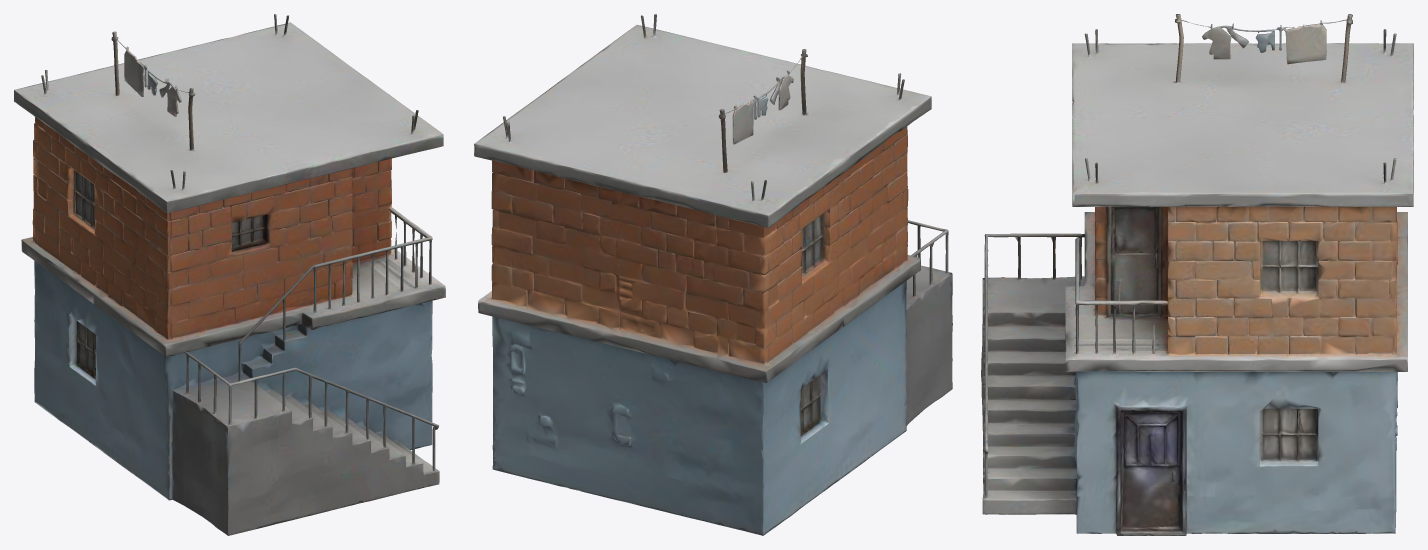
File: favela_casa1.glb
The picture shows the model from 3 angles, left to right: view 1: azimuth 30°, elevation 25°; view 2: azimuth 150°, elevation 25°; view 3: azimuth 270°, elevation 25°; orthographic projection. The views are drawn at different scales.
Visible parts, largest first — view 1: tripo_node_f0d05755-162e-4ab7-9c2d-4ab9e48786cd; view 2: tripo_node_f0d05755-162e-4ab7-9c2d-4ab9e48786cd; view 3: tripo_node_f0d05755-162e-4ab7-9c2d-4ab9e48786cd.
Part boxes in pixels (x1,y1,x2,y2): tripo_node_f0d05755-162e-4ab7-9c2d-4ab9e48786cd: [14, 14, 445, 535]; tripo_node_f0d05755-162e-4ab7-9c2d-4ab9e48786cd: [474, 14, 952, 535]; tripo_node_f0d05755-162e-4ab7-9c2d-4ab9e48786cd: [981, 14, 1413, 535].
Size of the model in its own units: 0.7826 by 1 by 0.9501.
1 material, 1 textured.
